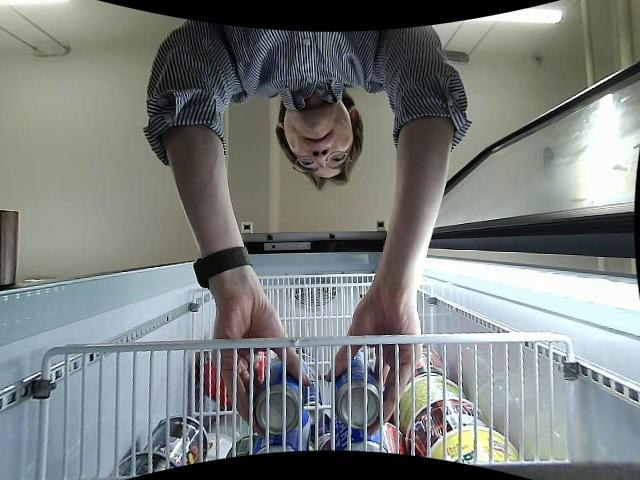00_hand: (210, 296, 309, 436), (325, 298, 420, 436)
15_letsbe: (255, 356, 301, 432), (335, 356, 380, 428)
